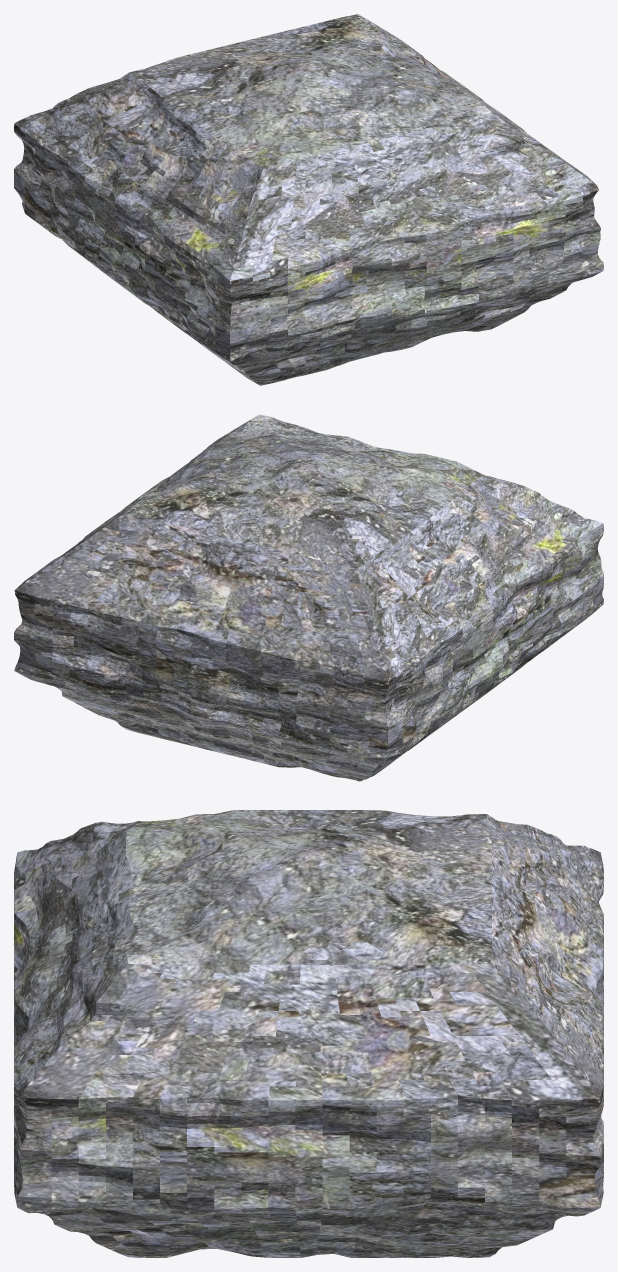
Rendered from Rock3.fbx.
The picture shows the model from 3 angles, top to bottom: view 1: azimuth 30°, elevation 25°; view 2: azimuth 150°, elevation 25°; view 3: azimuth 270°, elevation 25°; orthographic projection. The views are drawn at different scales.
Visible parts, largest first — view 1: rock.006; view 2: rock.006; view 3: rock.006.
Part boxes in pixels (left/top/right/bottom): rock.006: left=14, top=14, right=603, bottom=385; rock.006: left=14, top=414, right=603, bottom=781; rock.006: left=14, top=810, right=603, bottom=1257.
Size of the model in its own units: 5.56 by 3.42 by 5.56.
